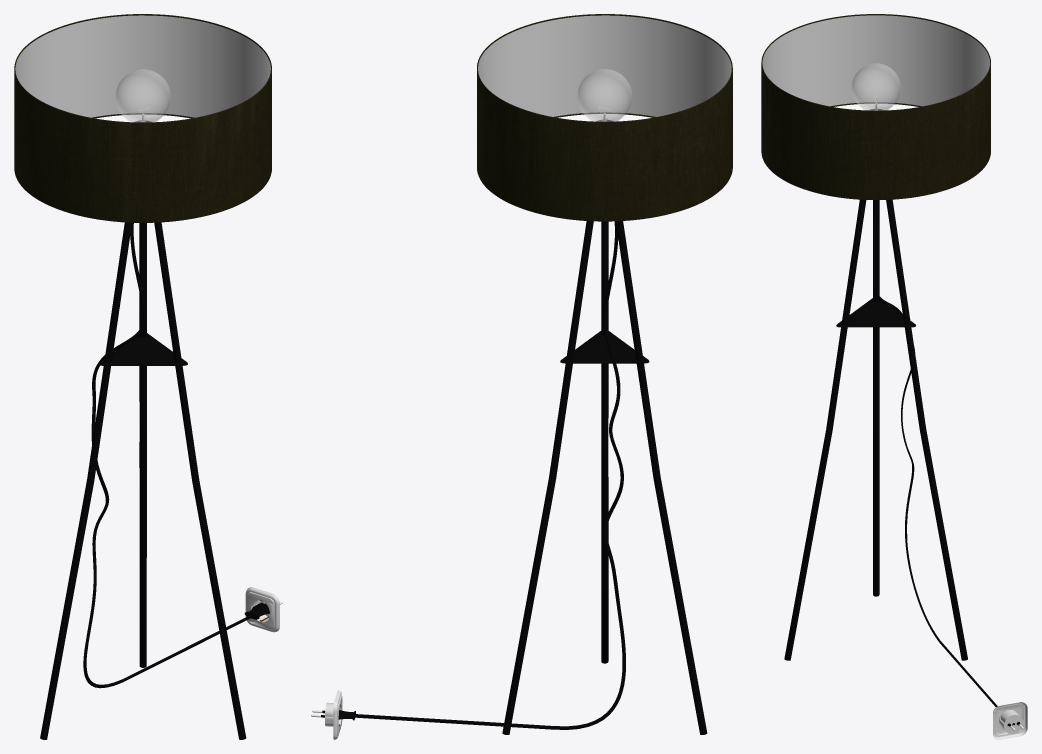
The model's file is Tripod_floor_lamp.glb.
3 views of the same model, side by side, from view 1: azimuth 30°, elevation 25°; view 2: azimuth 150°, elevation 25°; view 3: azimuth 270°, elevation 25° (orthographic). The views are drawn at different scales.
Visible parts, largest first — view 1: Object_4, Object_5, Object_22; view 2: Object_4, Object_5, Object_22; view 3: Object_4, Object_5, Object_22.
Part boxes in pixels (left/top/right/bottom): Object_4: left=15, top=15, right=282, bottom=739; Object_5: left=14, top=14, right=271, bottom=222; Object_22: left=115, top=69, right=170, bottom=122; Object_4: left=311, top=15, right=731, bottom=739; Object_5: left=477, top=14, right=732, bottom=221; Object_22: left=577, top=69, right=632, bottom=121; Object_4: left=762, top=15, right=1027, bottom=739; Object_5: left=761, top=14, right=990, bottom=200; Object_22: left=851, top=63, right=900, bottom=110.
Size of the model in its own units: 0.8061 by 1.55 by 0.6351.
Materials: 4 (4 with a texture image).
